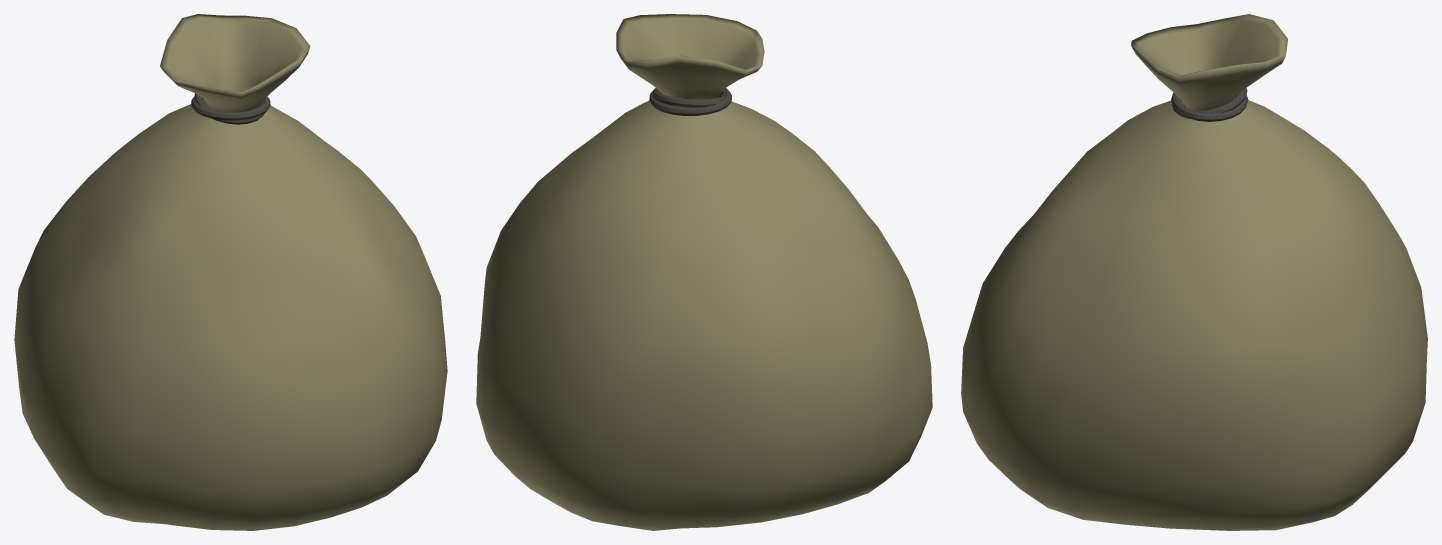
File: sacco_soldi_vuoto_02.fbx
3 views of the same model, side by side, from view 1: azimuth 30°, elevation 25°; view 2: azimuth 150°, elevation 25°; view 3: azimuth 270°, elevation 25° (orthographic). The views are drawn at different scales.
Visible parts, largest first — view 1: MSH_sacco_soldi_vuoto_02; view 2: MSH_sacco_soldi_vuoto_02; view 3: MSH_sacco_soldi_vuoto_02.
Part boxes in pixels (left/top/right/bottom): MSH_sacco_soldi_vuoto_02: left=14, top=14, right=447, bottom=530; MSH_sacco_soldi_vuoto_02: left=476, top=14, right=932, bottom=530; MSH_sacco_soldi_vuoto_02: left=961, top=14, right=1427, bottom=530.
Size of the model in its own units: 7.78 by 8.57 by 8.04.
